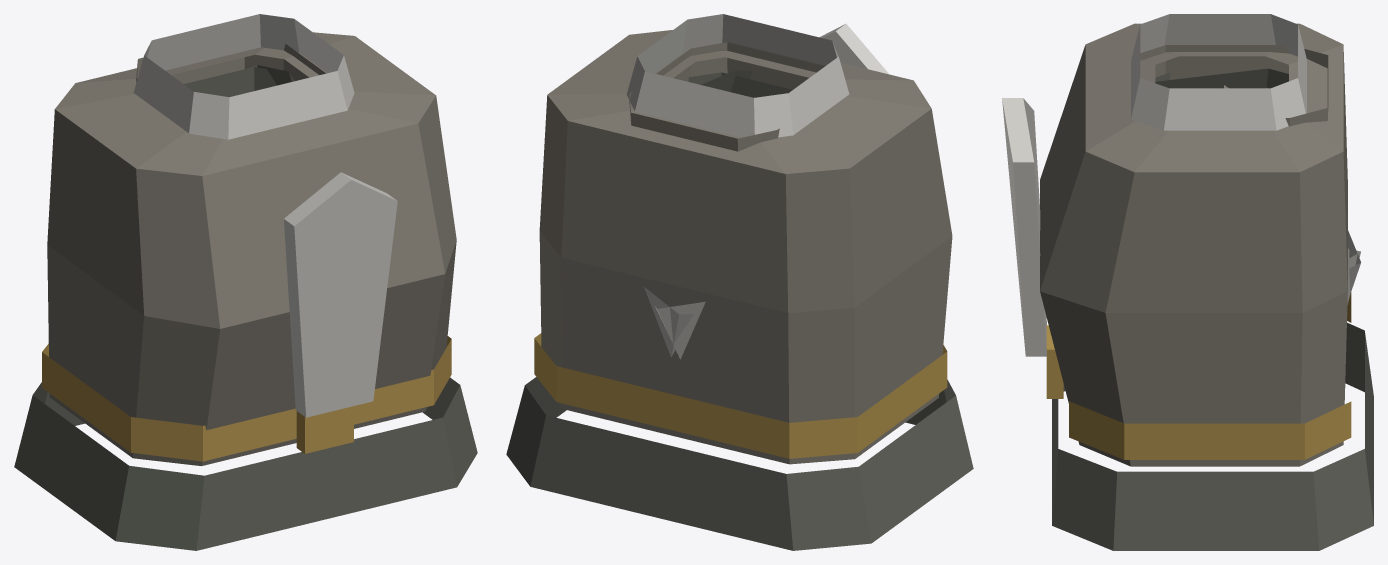
Rendered from harness.glb.
3 views of the same model, side by side, from view 1: azimuth 30°, elevation 25°; view 2: azimuth 150°, elevation 25°; view 3: azimuth 270°, elevation 25° (orthographic).
Parts seen in each view (by area): view 1: harness_spine, harness_shin_R, harness_thigh_L, harness_shin_L; view 2: harness_spine, harness_shin_L, harness_shin_R, harness_upperarm_R, harness_upperarm_L, harness_thigh_R; view 3: harness_spine, harness_shin_L, harness_upperarm_L.
Part boxes in pixels (x1,y1,x2,y2): harness_spine: (14, 14, 477, 550); harness_shin_R: (136, 44, 325, 83); harness_thigh_L: (184, 67, 266, 97); harness_shin_L: (136, 46, 287, 83); harness_spine: (506, 14, 973, 550); harness_shin_L: (629, 42, 825, 151); harness_shin_R: (629, 42, 820, 150); harness_upperarm_R: (644, 70, 752, 357); harness_upperarm_L: (655, 301, 705, 359); harness_thigh_R: (688, 72, 792, 97); harness_spine: (1002, 14, 1373, 550); harness_shin_L: (1140, 45, 1328, 126); harness_upperarm_L: (1155, 68, 1360, 293).
Size of the model in its own units: 0.7 by 0.745 by 0.6125.
